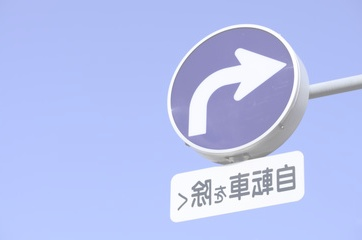Direction_sign: (167, 20, 305, 155)
